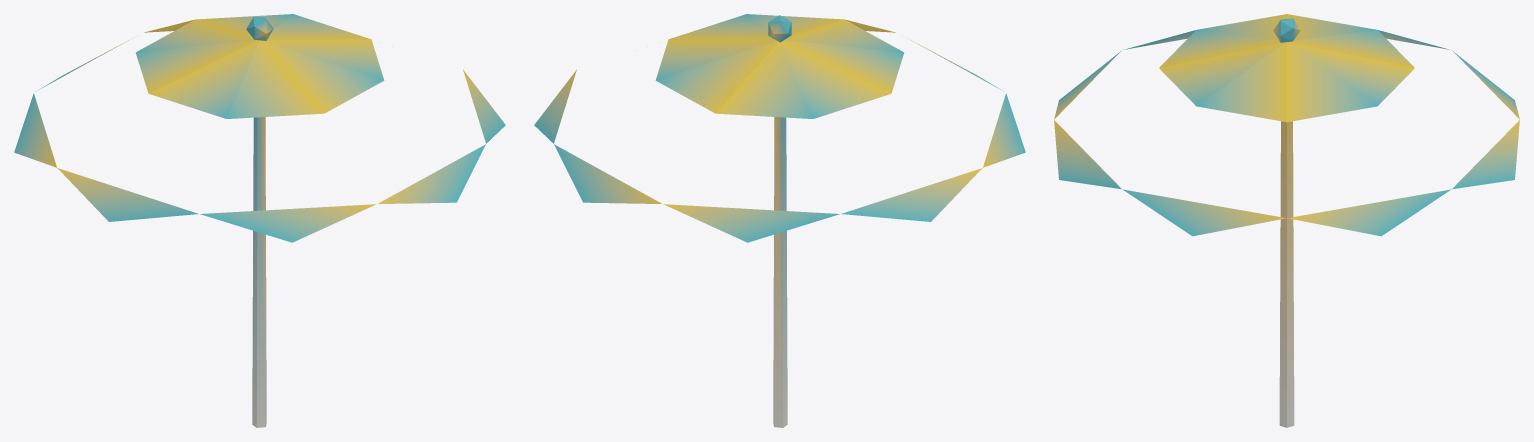
The model's file is umbrella_1.glb.
3 views of the same model, side by side, from view 1: azimuth 30°, elevation 25°; view 2: azimuth 150°, elevation 25°; view 3: azimuth 270°, elevation 25° (orthographic).
Parts seen in each view (by area): view 1: Umbrella.001; view 2: Umbrella.001; view 3: Umbrella.001.
Boxes of the visible parts, bbox=[...] form: Umbrella.001: bbox=[14, 14, 505, 427]; Umbrella.001: bbox=[534, 14, 1025, 427]; Umbrella.001: bbox=[1054, 14, 1519, 427].
Bounding box in the file's own units: 2.7 × 2.59 × 2.7.
